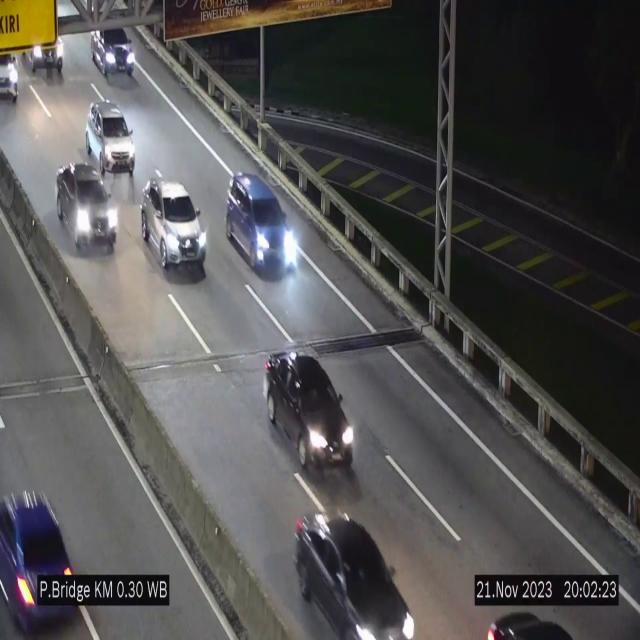Car: (290, 506, 418, 640), (259, 343, 356, 476), (0, 472, 78, 636), (222, 173, 292, 271), (139, 176, 205, 274), (53, 159, 120, 254), (86, 97, 136, 179), (23, 22, 69, 81), (89, 26, 138, 81), (0, 46, 26, 113)
